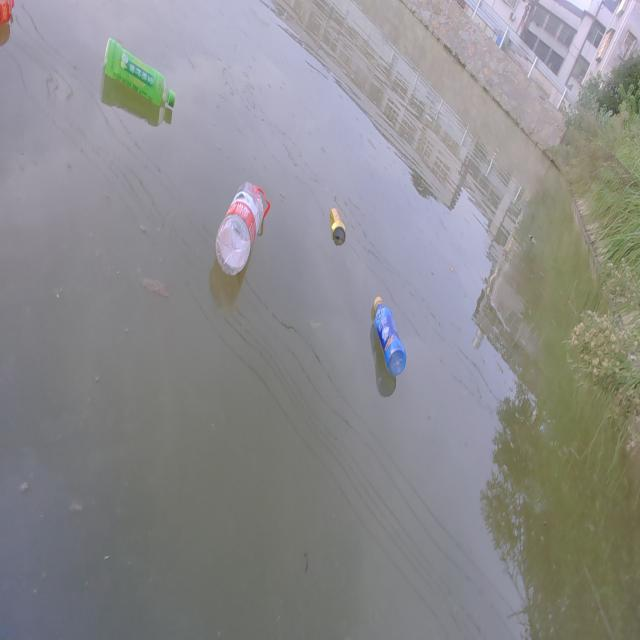Bottle: (99, 28, 180, 118), (214, 172, 277, 277), (370, 290, 410, 375)
Can: (326, 203, 350, 245)
